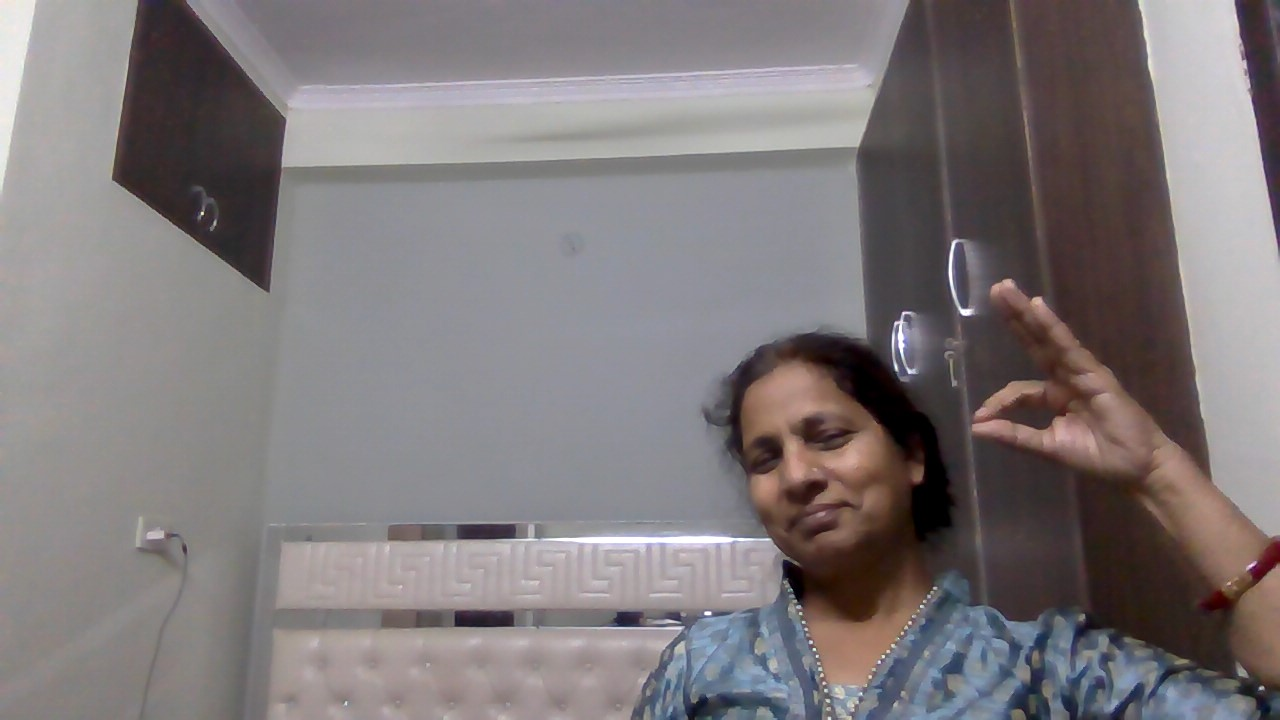Copy: (950, 270, 1170, 499)
